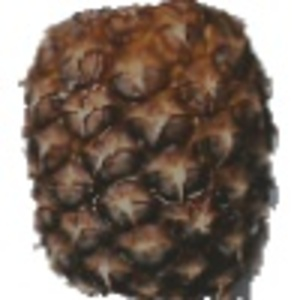abacaxi: (16, 2, 274, 297)
